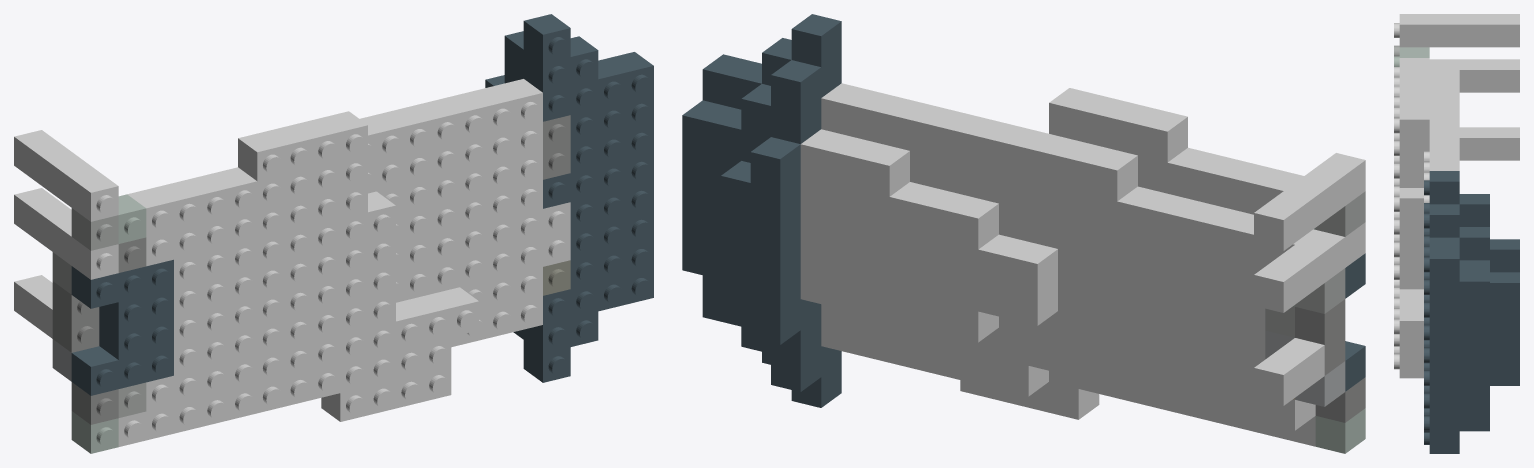
File: full.glb
3 views of the same model, side by side, from view 1: azimuth 30°, elevation 25°; view 2: azimuth 150°, elevation 25°; view 3: azimuth 270°, elevation 25° (orthographic). The views are drawn at different scales.
Parts seen in each view (by area): view 1: world; view 2: world; view 3: world.
Boxes of the visible parts, x1=… form: world: x1=14, y1=14, x2=653, y2=453; world: x1=682, y1=14, x2=1365, y2=453; world: x1=1394, y1=14, x2=1519, y2=453.
Size of the model in its own units: 168 by 96 by 40.2.
